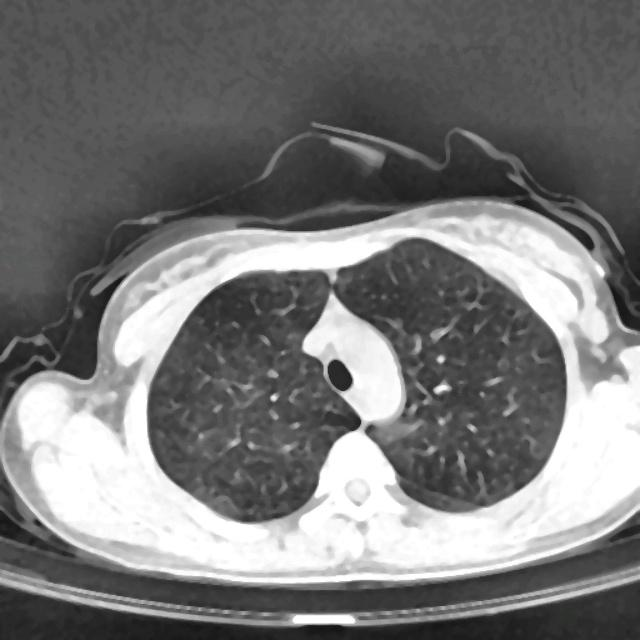covid: (0, 123, 639, 589)
